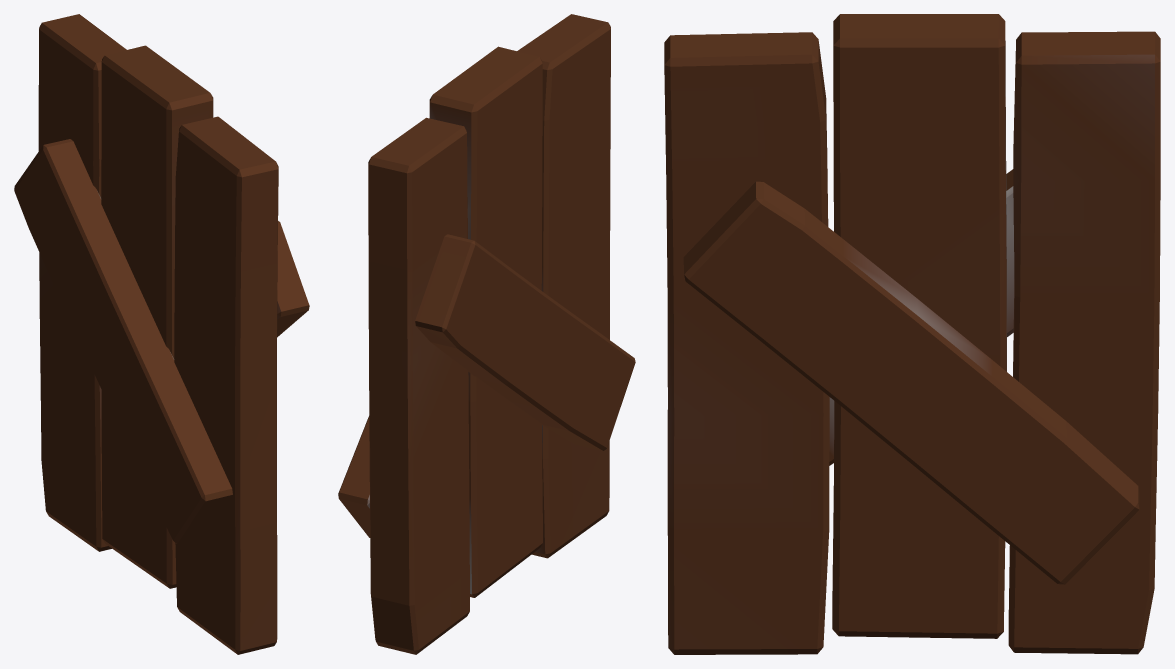
The model's file is Door.fbx.
3 views of the same model, side by side, from view 1: azimuth 30°, elevation 25°; view 2: azimuth 150°, elevation 25°; view 3: azimuth 270°, elevation 25° (orthographic). The views are drawn at different scales.
Parts seen in each view (by area): view 1: SM_FenceGate_Door_LOD0.mo; view 2: SM_FenceGate_Door_LOD0.mo; view 3: SM_FenceGate_Door_LOD0.mo.
Boxes of the visible parts, box(x1,y1,x2,y2) form: SM_FenceGate_Door_LOD0.mo: box(14, 14, 309, 654); SM_FenceGate_Door_LOD0.mo: box(338, 14, 635, 654); SM_FenceGate_Door_LOD0.mo: box(664, 14, 1160, 654).
Bounding box in the file's own units: 28.01 × 122 × 88.6.
